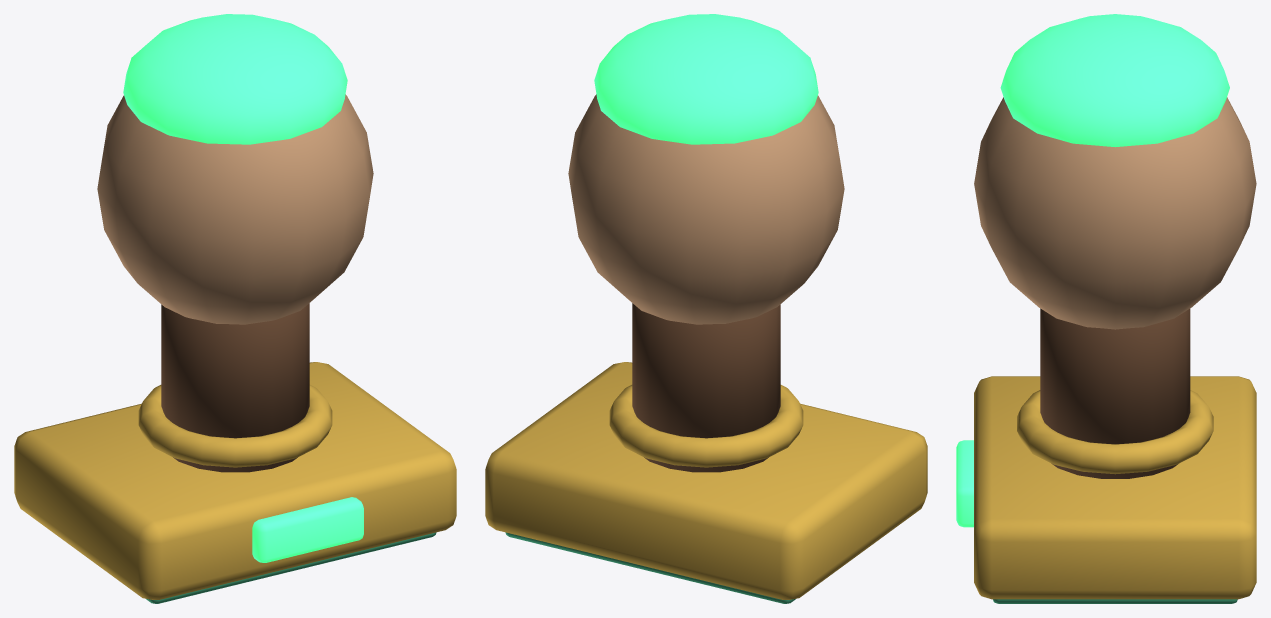
Rendered from Doc_ApprovalStamp.fbx.
3 renders of one model, left to right at view 1: azimuth 30°, elevation 25°; view 2: azimuth 150°, elevation 25°; view 3: azimuth 270°, elevation 25°, orthographic.
Visible parts, largest first — view 1: Stamp_Brass, Stamp_WarmWood, Stamp_StatusGreen, Stamp_DarkWood, Stamp_Tester_Mint; view 2: Stamp_Brass, Stamp_WarmWood, Stamp_StatusGreen, Stamp_DarkWood, Stamp_Tester_Mint; view 3: Stamp_Brass, Stamp_WarmWood, Stamp_StatusGreen, Stamp_DarkWood, Stamp_Tester_Mint.
Part boxes in pixels (<box>): Stamp_Brass: <box>14,362,456,599</box>; Stamp_WarmWood: <box>97,94,373,324</box>; Stamp_StatusGreen: <box>123,14,363,562</box>; Stamp_DarkWood: <box>161,303,309,472</box>; Stamp_Tester_Mint: <box>146,532,436,603</box>; Stamp_Brass: <box>485,362,927,599</box>; Stamp_WarmWood: <box>568,94,844,324</box>; Stamp_StatusGreen: <box>594,14,818,144</box>; Stamp_DarkWood: <box>632,303,780,472</box>; Stamp_Tester_Mint: <box>505,532,795,603</box>; Stamp_Brass: <box>974,376,1256,599</box>; Stamp_WarmWood: <box>974,97,1256,329</box>; Stamp_StatusGreen: <box>956,14,1229,527</box>; Stamp_DarkWood: <box>1040,308,1190,478</box>; Stamp_Tester_Mint: <box>993,599,1237,603</box>.
Bounding box in the file's own units: 4.2 × 6.3 × 3.4.
